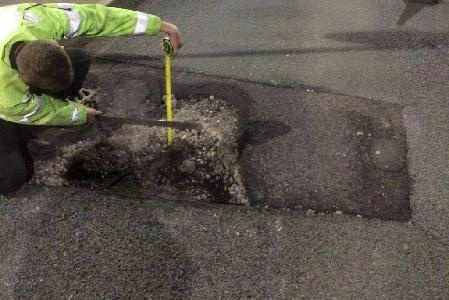pothole: (149, 79, 257, 208)
